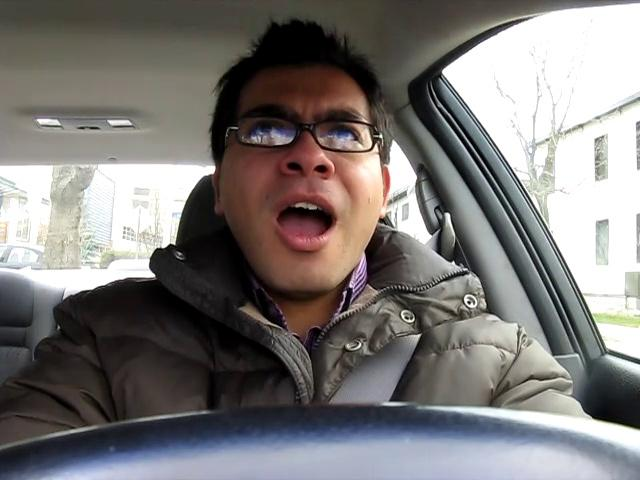Yawn: (217, 51, 389, 305)
